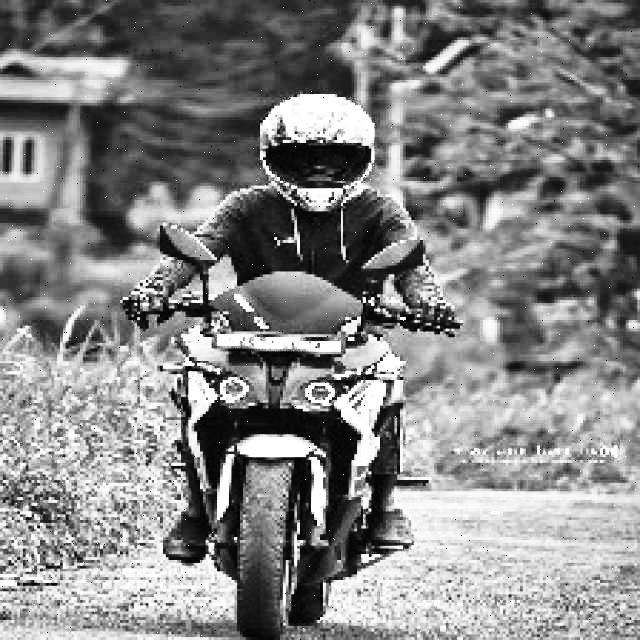Bike: (182, 285, 422, 632)
